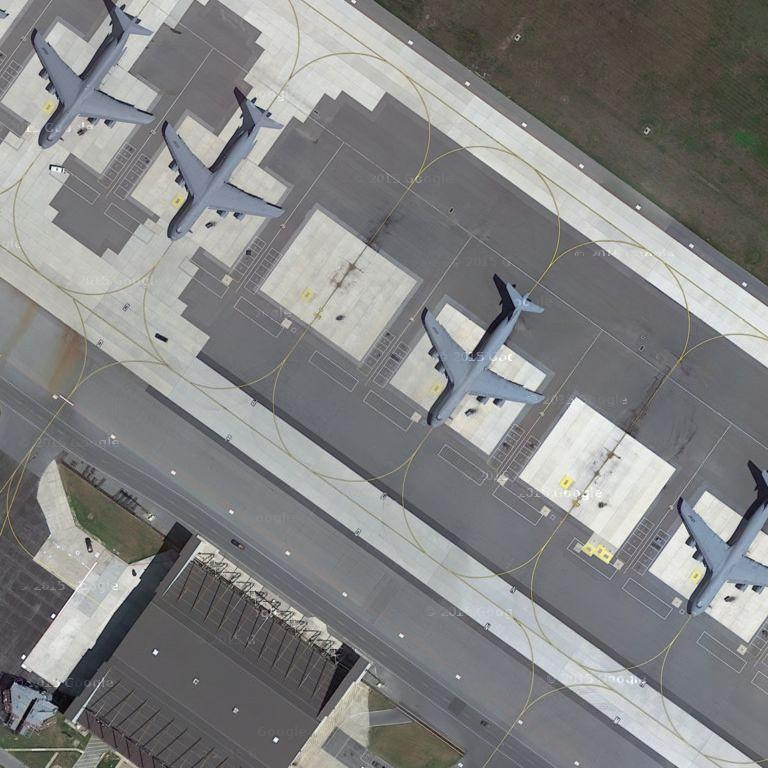KC-135: (419, 273, 549, 429), (160, 95, 292, 242), (30, 8, 161, 149), (676, 468, 768, 622)
